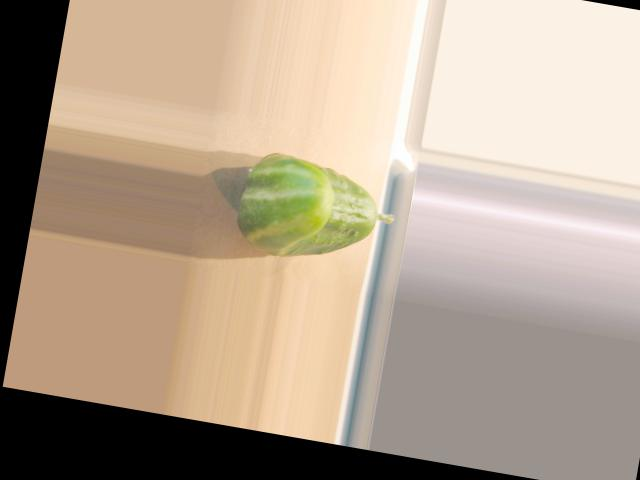cucumber: (231, 146, 402, 273)
